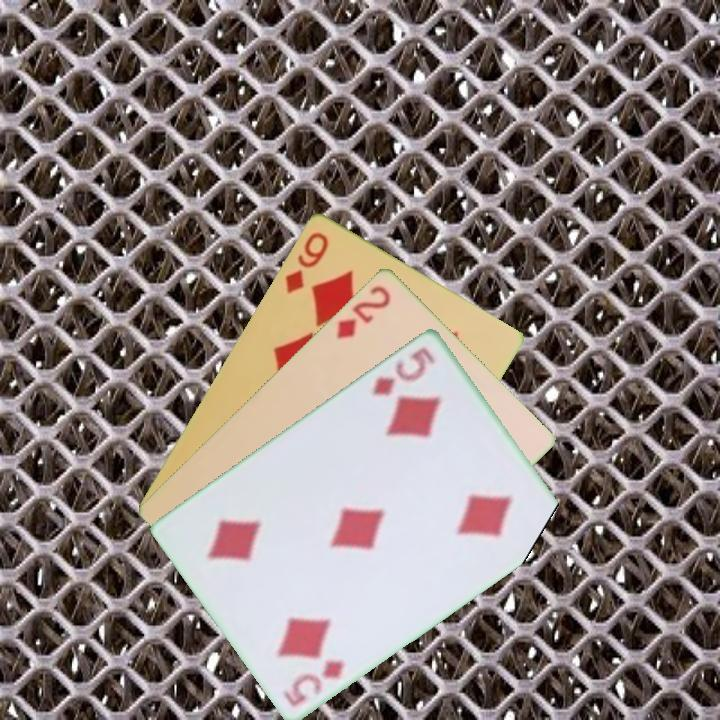2d: (333, 281, 394, 342)
5d: (368, 342, 438, 399), (279, 655, 348, 709)
9d: (281, 227, 332, 296)
